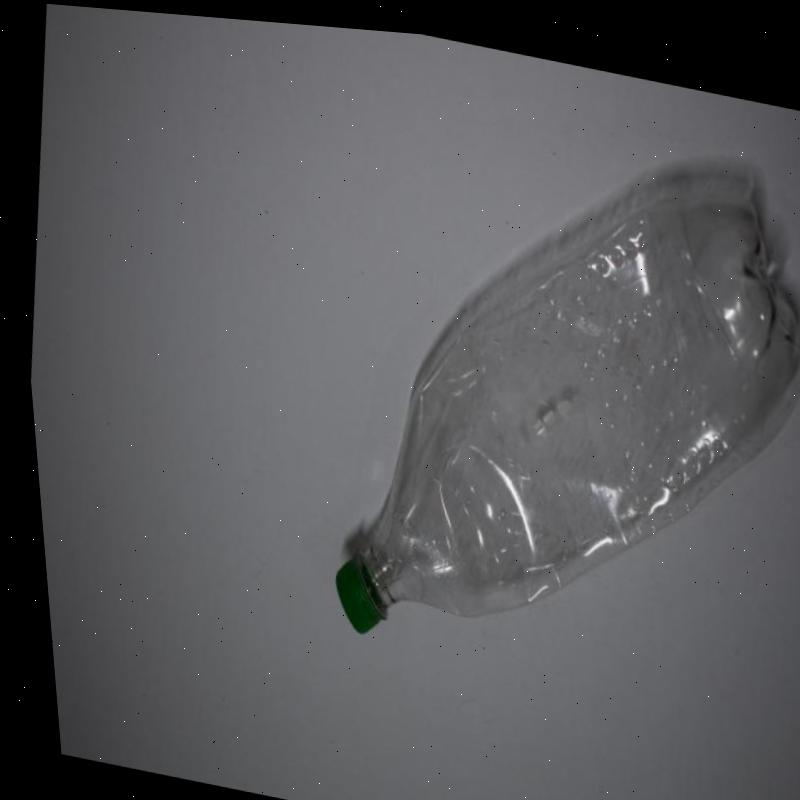botella: (289, 96, 800, 712)
